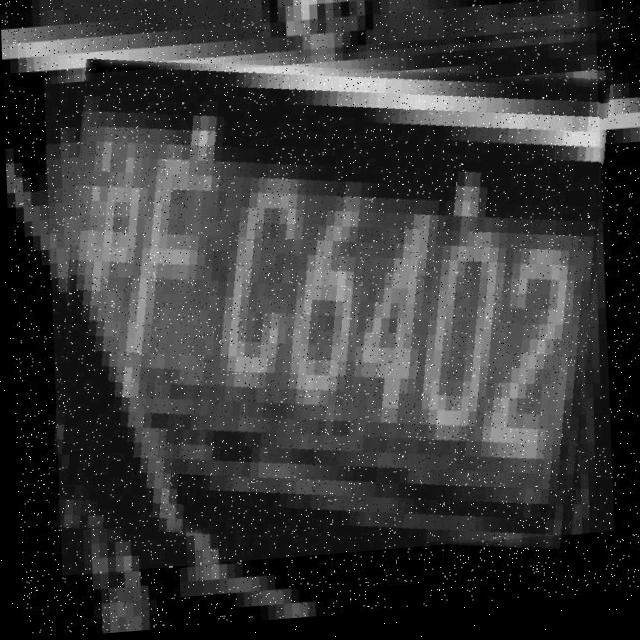LicensePlate: (43, 43, 610, 577)
